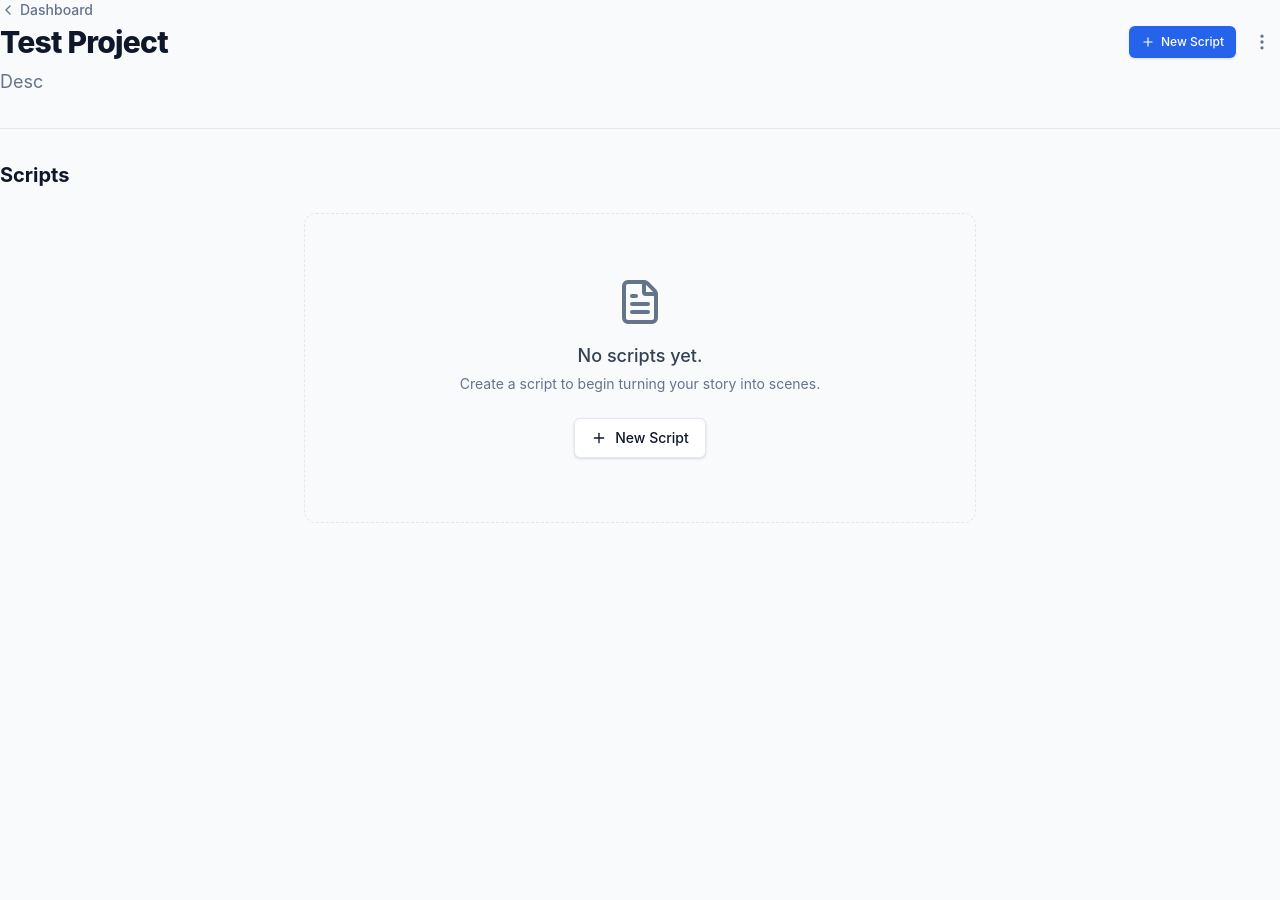
Test case: ProjectPage Component › renders project page empty state and opens script modal
This screenshot has width=1280, height=900.
Check: the heading "Test Project" is shown, box [0,24,168,60]
Check: the text "Desc" is shown, box [0,71,43,92]
// Open Modal
Click the button "New Script" in the row of "Test Project" at (1182, 42), box [1129,26,1236,58]
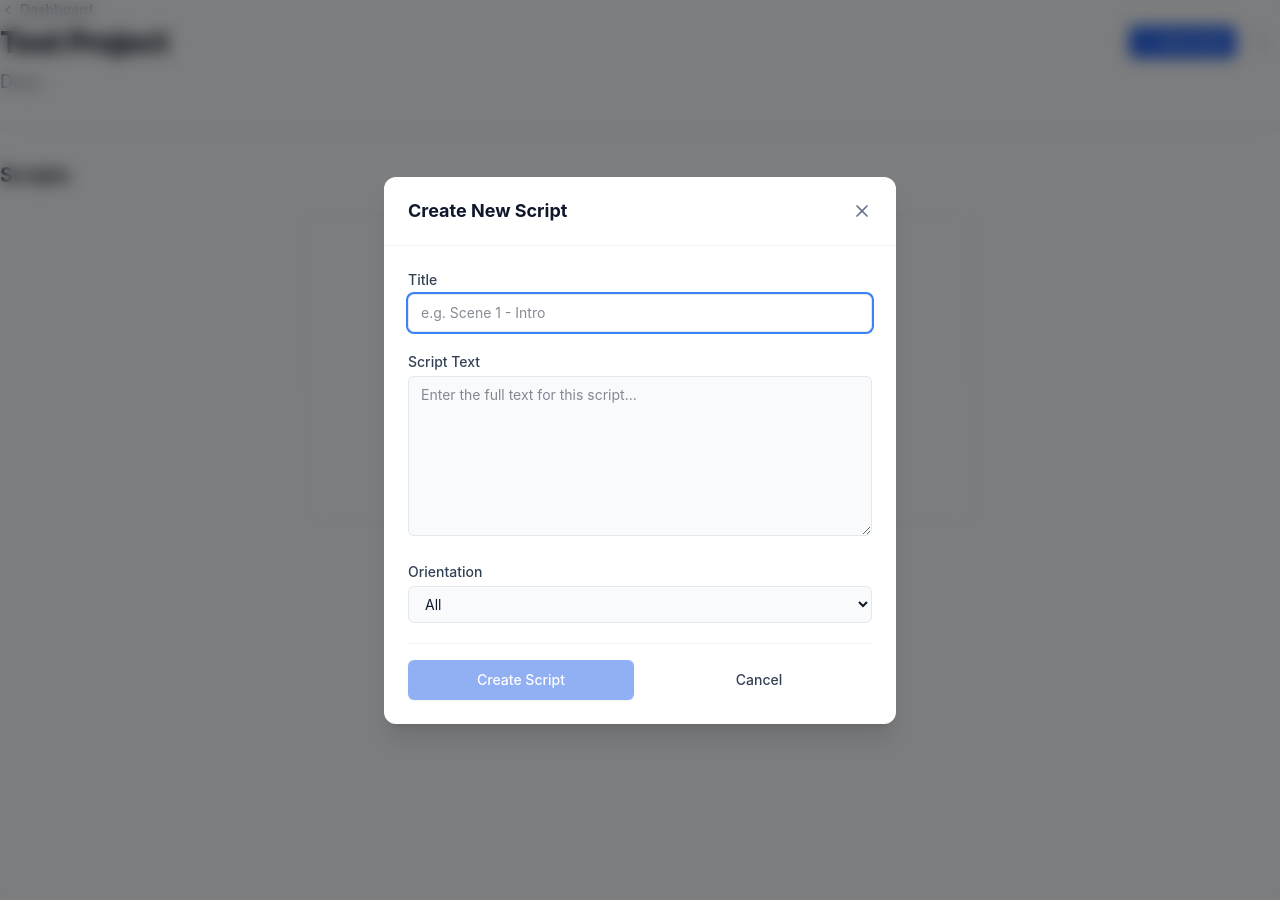
Check: the dialog is shown, box [384,176,896,724]
Check: the heading "Create New Script" is shown, box [408,196,567,224]
// Close Modal
Click the button named "Close modal" at (862, 210), box [844,192,880,228]
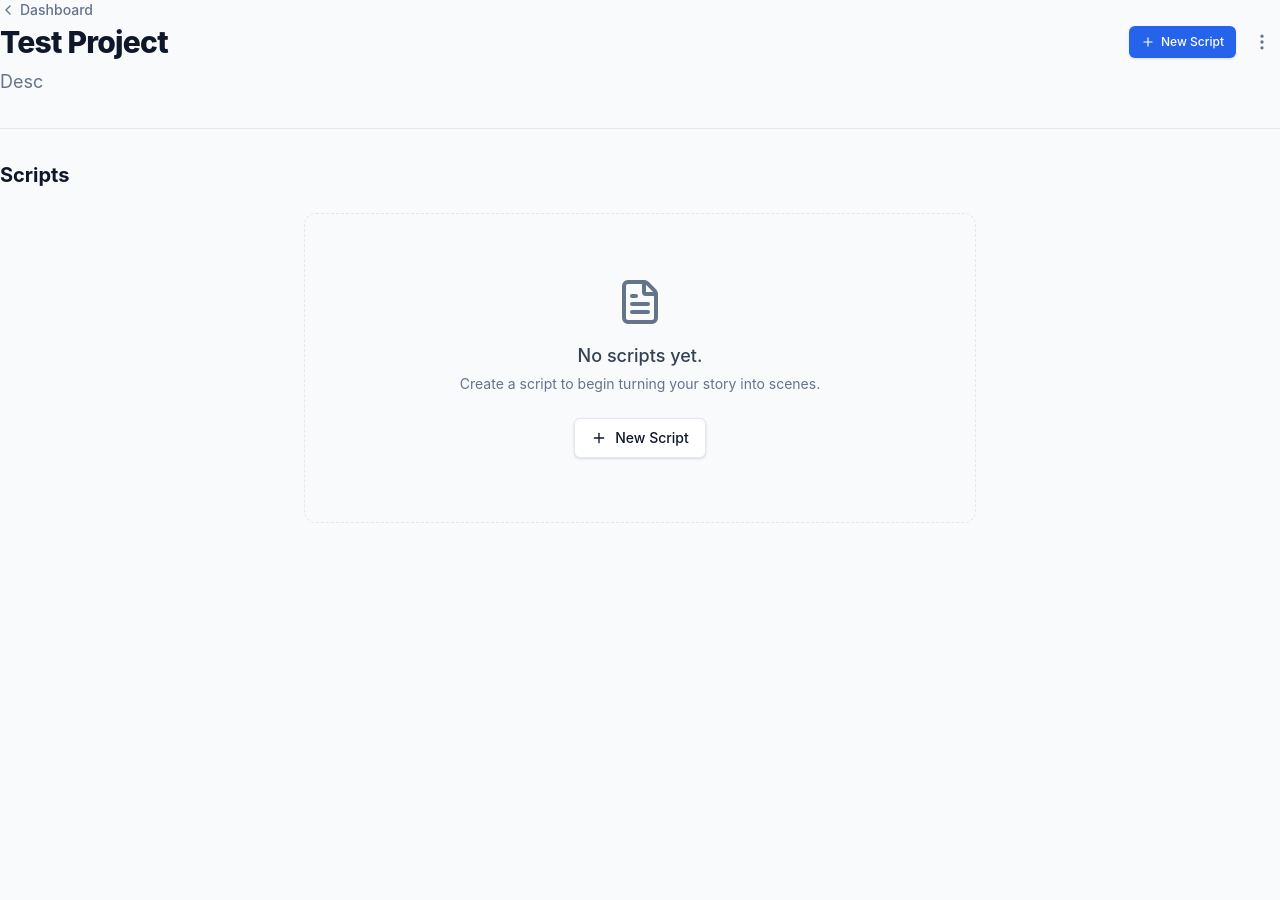
Check: the dialog is gone
